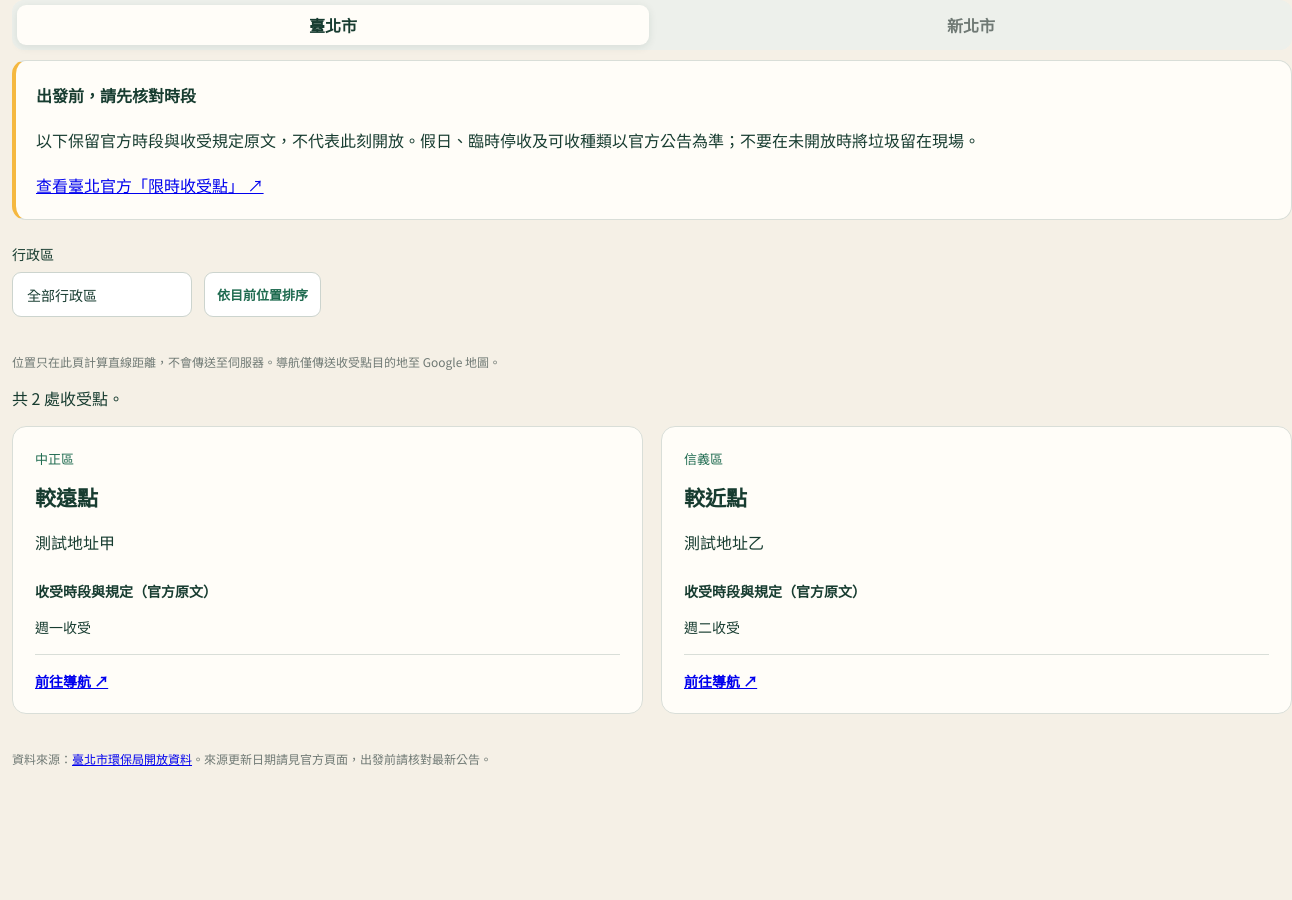
Test: 定位僅在點擊後執行，依距離排序並可篩選行政區
Step 1. Click the button "依目前位置排序" → (262,295), box [204,272,321,317]
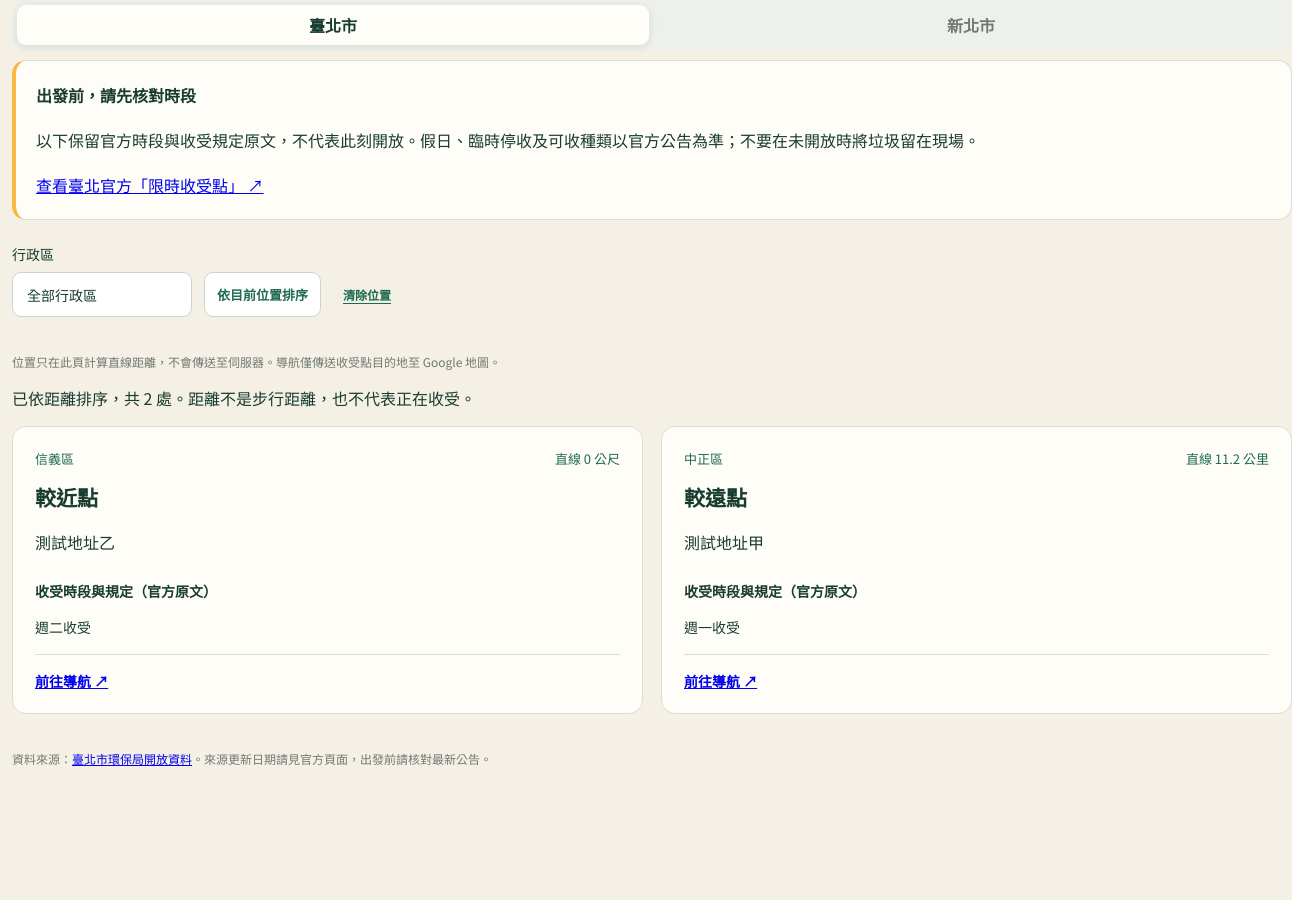
Expected: the heading "較近點" is shown, [35,482,98,512]
Step 2. Select "中正區" in the dropdown → (102,295), box [12,272,192,317]
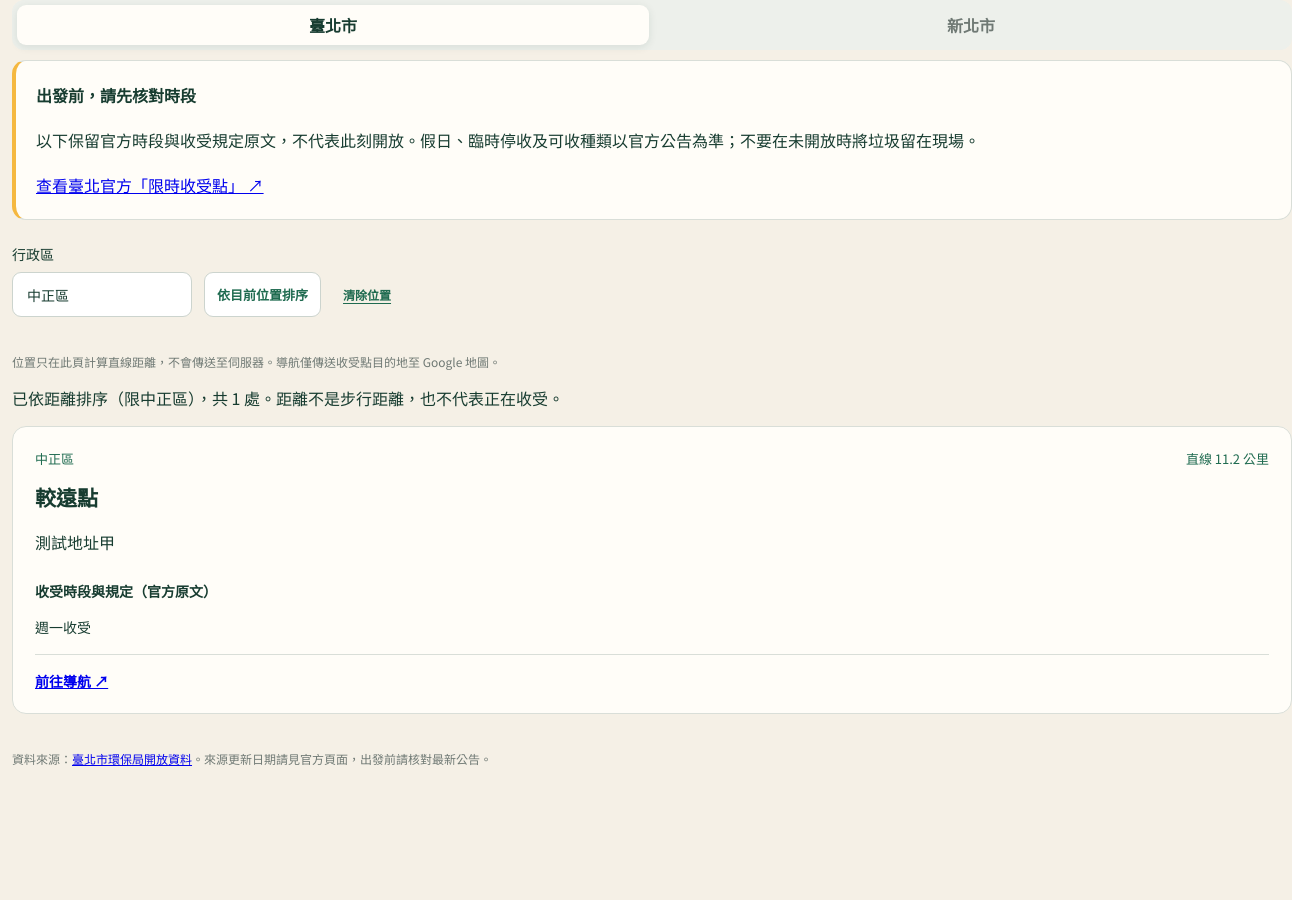
Expected: the heading "較遠點" is shown, [35,482,98,512]
Result: the heading "較近點" is gone
